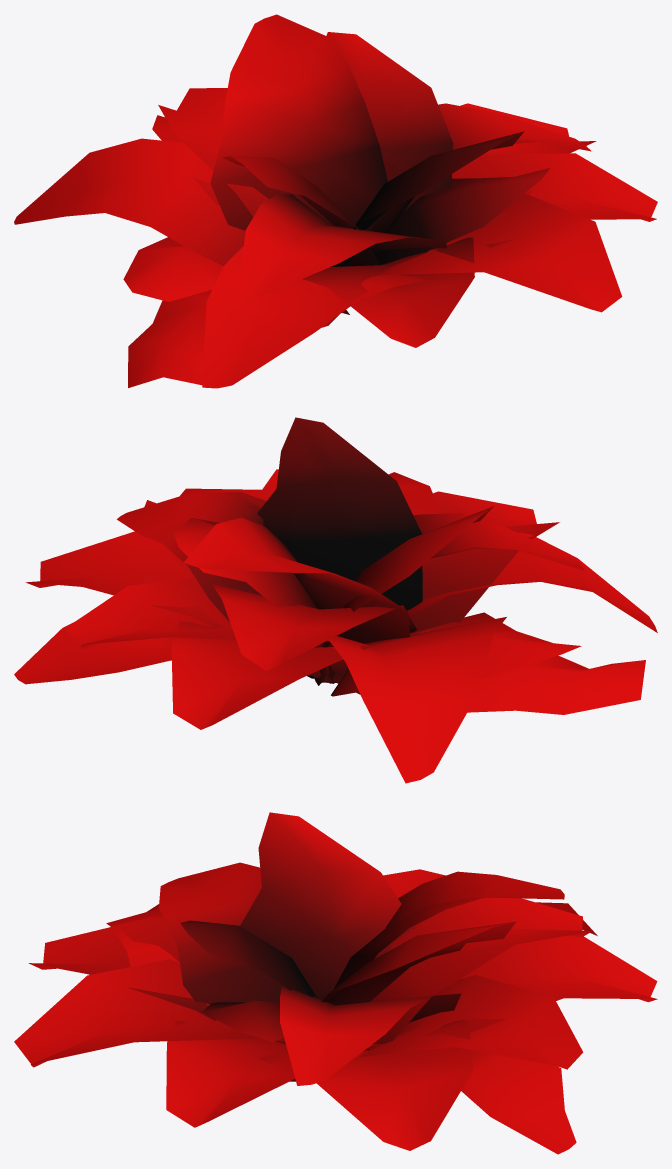
Rendered from Fern_01.fbx.
3 renders of one model, top to bottom at view 1: azimuth 30°, elevation 25°; view 2: azimuth 150°, elevation 25°; view 3: azimuth 270°, elevation 25°, orthographic. The views are drawn at different scales.
Parts seen in each view (by area): view 1: Fern_01_LOD0; view 2: Fern_01_LOD0; view 3: Fern_01_LOD0.
Part boxes in pixels (x1,y1,x2,y2): Fern_01_LOD0: [14, 14, 657, 388]; Fern_01_LOD0: [14, 417, 657, 783]; Fern_01_LOD0: [14, 812, 657, 1154].
Size of what is drawn, in the model's own units: 93.82 by 34.29 by 92.98.
